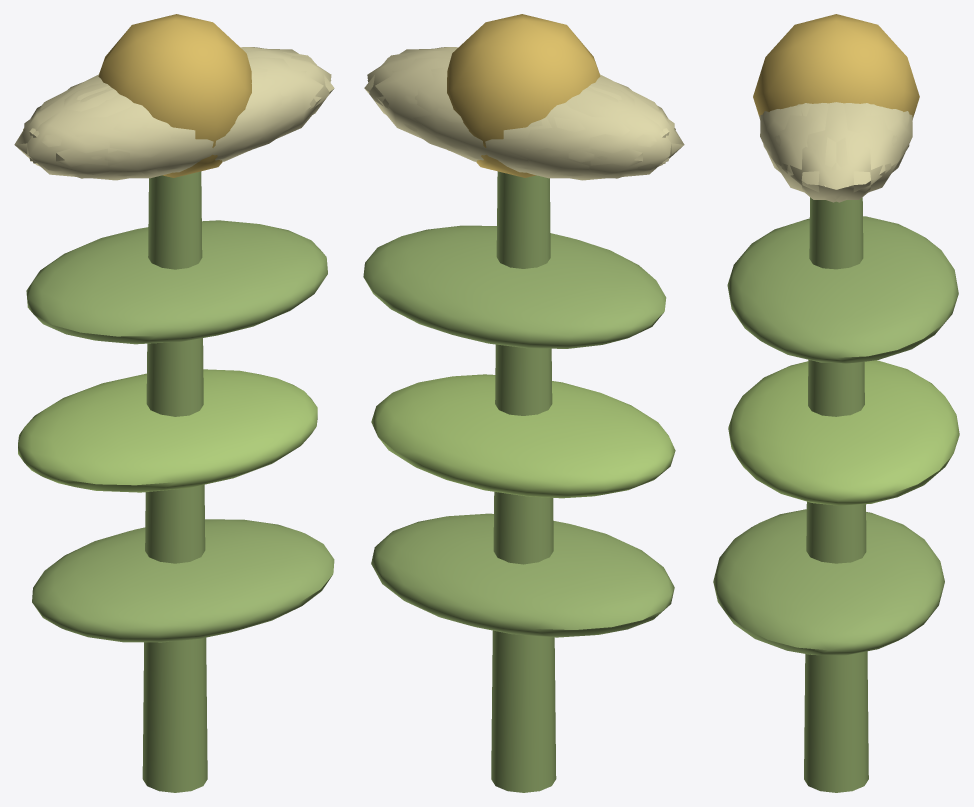
File: ficus-microcarpa.glb
3 views of the same model, side by side, from view 1: azimuth 30°, elevation 25°; view 2: azimuth 150°, elevation 25°; view 3: azimuth 270°, elevation 25° (orthographic).
Parts seen in each view (by area): view 1: leaf0, leaf2, leaf1, stem, center, petal6, petal2, petal1, petal5, petal7, petal0; view 2: leaf2, leaf1, leaf0, stem, center, petal3, petal7, petal8, petal4, petal2, petal0; view 3: leaf2, leaf0, leaf1, stem, center, petal0, petal4, petal5, petal8, petal1.
Boxes of the visible parts, x1=… form: leaf0: x1=32, y1=519, x2=334, y2=642; leaf2: x1=26, y1=220, x2=327, y2=344; leaf1: x1=18, y1=369, x2=317, y2=492; stem: x1=142, y1=171, x2=207, y2=792; center: x1=98, y1=14, x2=251, y2=177; petal6: x1=32, y1=88, x2=237, y2=178; petal2: x1=24, y1=82, x2=182, y2=180; petal1: x1=104, y1=66, x2=316, y2=176; petal5: x1=170, y1=56, x2=334, y2=168; petal7: x1=14, y1=77, x2=118, y2=171; petal0: x1=245, y1=48, x2=331, y2=150; leaf2: x1=363, y1=225, x2=666, y2=348; leaf1: x1=371, y1=374, x2=675, y2=498; leaf0: x1=371, y1=513, x2=674, y2=637; stem: x1=491, y1=171, x2=556, y2=792; center: x1=447, y1=14, x2=600, y2=177; petal3: x1=461, y1=88, x2=665, y2=178; petal7: x1=516, y1=82, x2=674, y2=180; petal8: x1=382, y1=66, x2=594, y2=176; petal4: x1=364, y1=56, x2=528, y2=168; petal2: x1=580, y1=77, x2=684, y2=171; petal0: x1=367, y1=48, x2=453, y2=150; leaf2: x1=727, y1=216, x2=958, y2=363; leaf0: x1=713, y1=509, x2=944, y2=655; leaf1: x1=728, y1=360, x2=959, y2=505; stem: x1=804, y1=197, x2=868, y2=792; center: x1=753, y1=14, x2=919, y2=116; petal0: x1=774, y1=102, x2=897, y2=199; petal4: x1=823, y1=103, x2=909, y2=202; petal5: x1=763, y1=103, x2=848, y2=202; petal8: x1=860, y1=103, x2=912, y2=173; petal1: x1=760, y1=103, x2=812, y2=173.
Bounding box in the file's own units: 0.1541 × 0.3608 × 0.1063.
